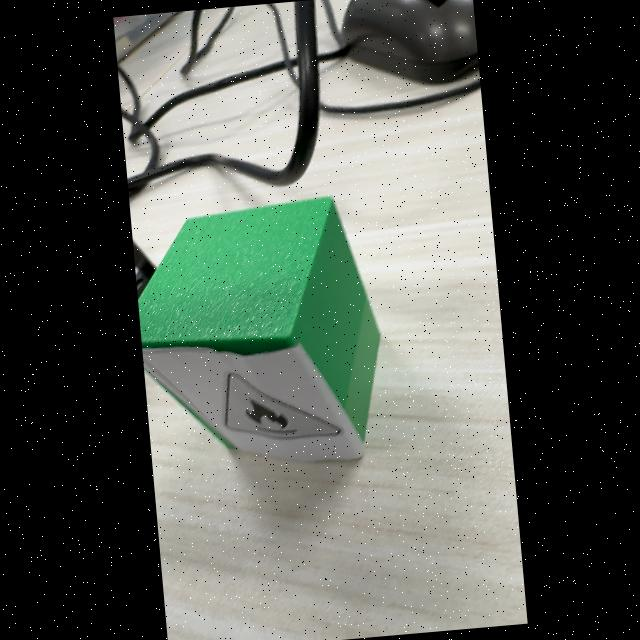Fire: (226, 373, 340, 439)
